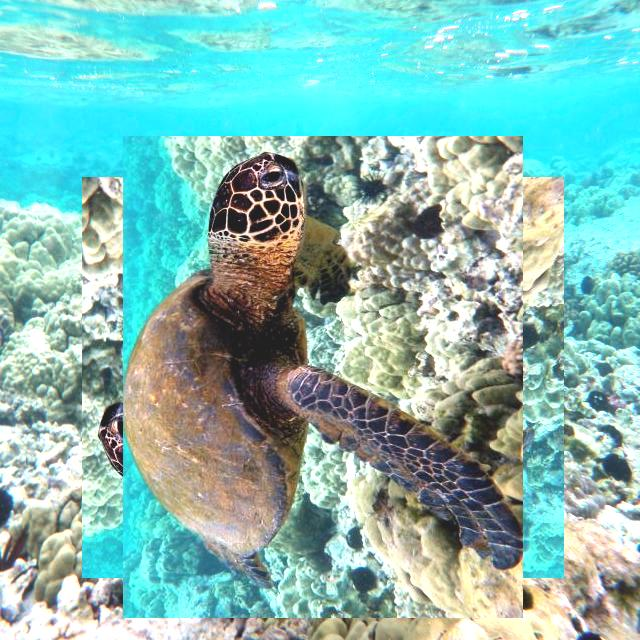Sea turtle: (102, 157, 544, 598)
